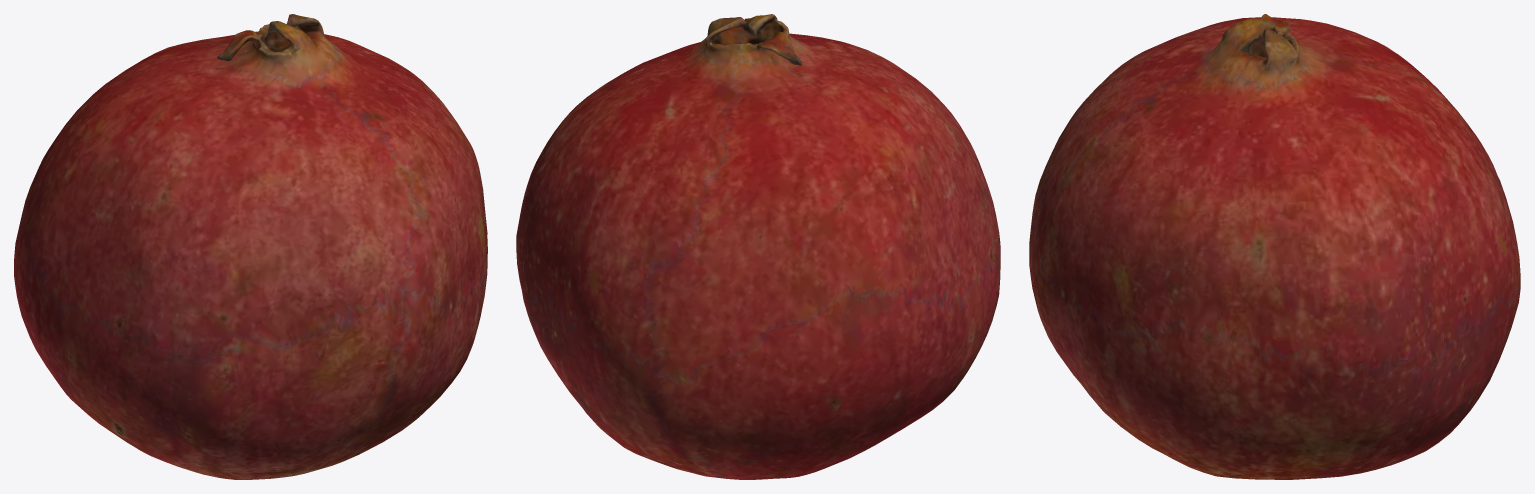
Rendered from pomegranate.glb.
3 views of the same model, side by side, from view 1: azimuth 30°, elevation 25°; view 2: azimuth 150°, elevation 25°; view 3: azimuth 270°, elevation 25° (orthographic). The views are drawn at different scales.
Parts seen in each view (by area): view 1: food_pomegranate_01; view 2: food_pomegranate_01; view 3: food_pomegranate_01.
Boxes of the visible parts, bbox=[...] form: food_pomegranate_01: bbox=[14, 14, 487, 479]; food_pomegranate_01: bbox=[516, 14, 1000, 479]; food_pomegranate_01: bbox=[1029, 14, 1520, 479].
Size of the model in its own units: 0.1143 by 0.115 by 0.1154.
Materials: 1 (1 with a texture image).
